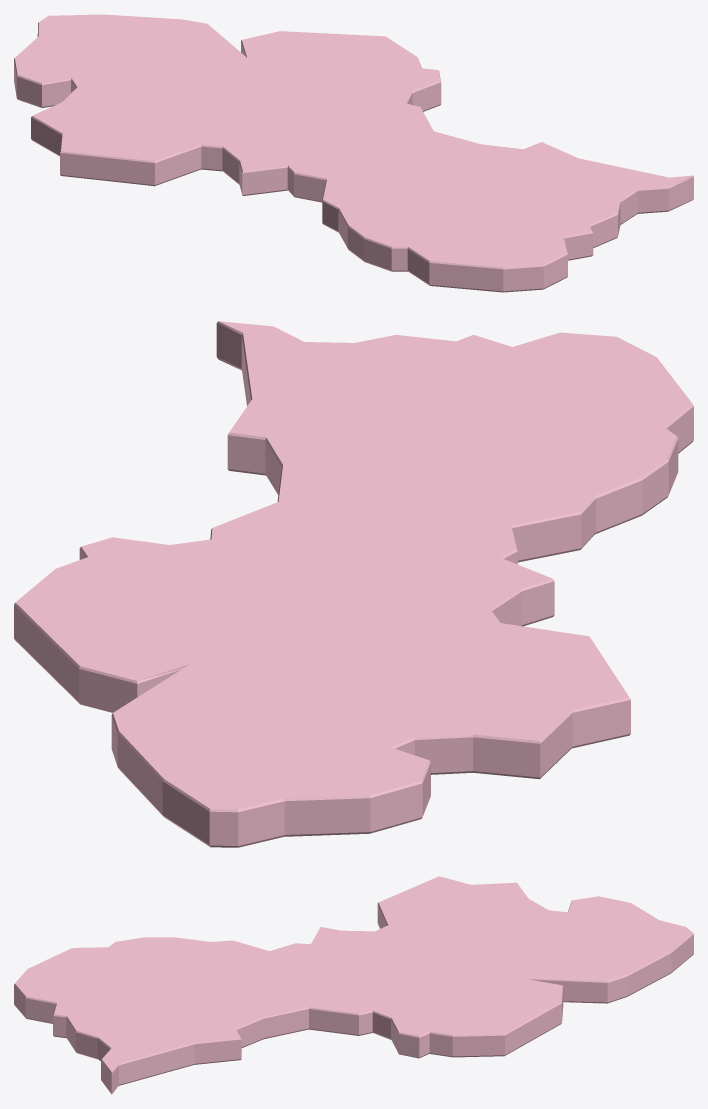
Rendered from GUY.glb.
The picture shows the model from 3 angles, top to bottom: view 1: azimuth 30°, elevation 25°; view 2: azimuth 150°, elevation 25°; view 3: azimuth 270°, elevation 25°; orthographic projection. The views are drawn at different scales.
Size of the model in its own units: 1.29 by 0.068 by 1.89.
